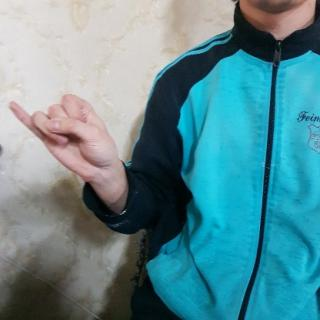MEEM: (7, 91, 124, 191)
